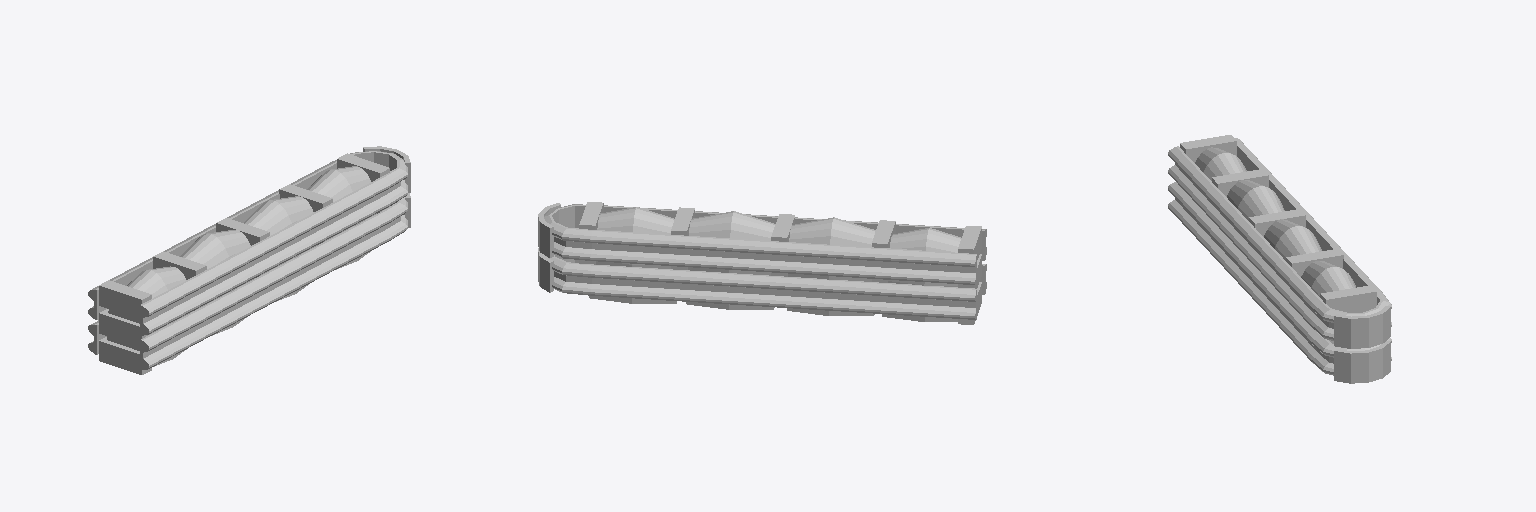
File: Road8_2_1.obj
3 renders of one model, left to right at view 1: azimuth 30°, elevation 25°; view 2: azimuth 150°, elevation 25°; view 3: azimuth 270°, elevation 25°, orthographic.
Parts seen in each view (by area): view 1: GSDAtten_Static(Clone); view 2: GSDAtten_Static(Clone); view 3: GSDAtten_Static(Clone).
Part boxes in pixels (bbox=[...]): GSDAtten_Static(Clone): bbox=[88, 146, 410, 374]; GSDAtten_Static(Clone): bbox=[538, 202, 986, 324]; GSDAtten_Static(Clone): bbox=[1168, 135, 1391, 383].
Bounding box in the file's own units: 3.84 × 0.8398 × 1.99.